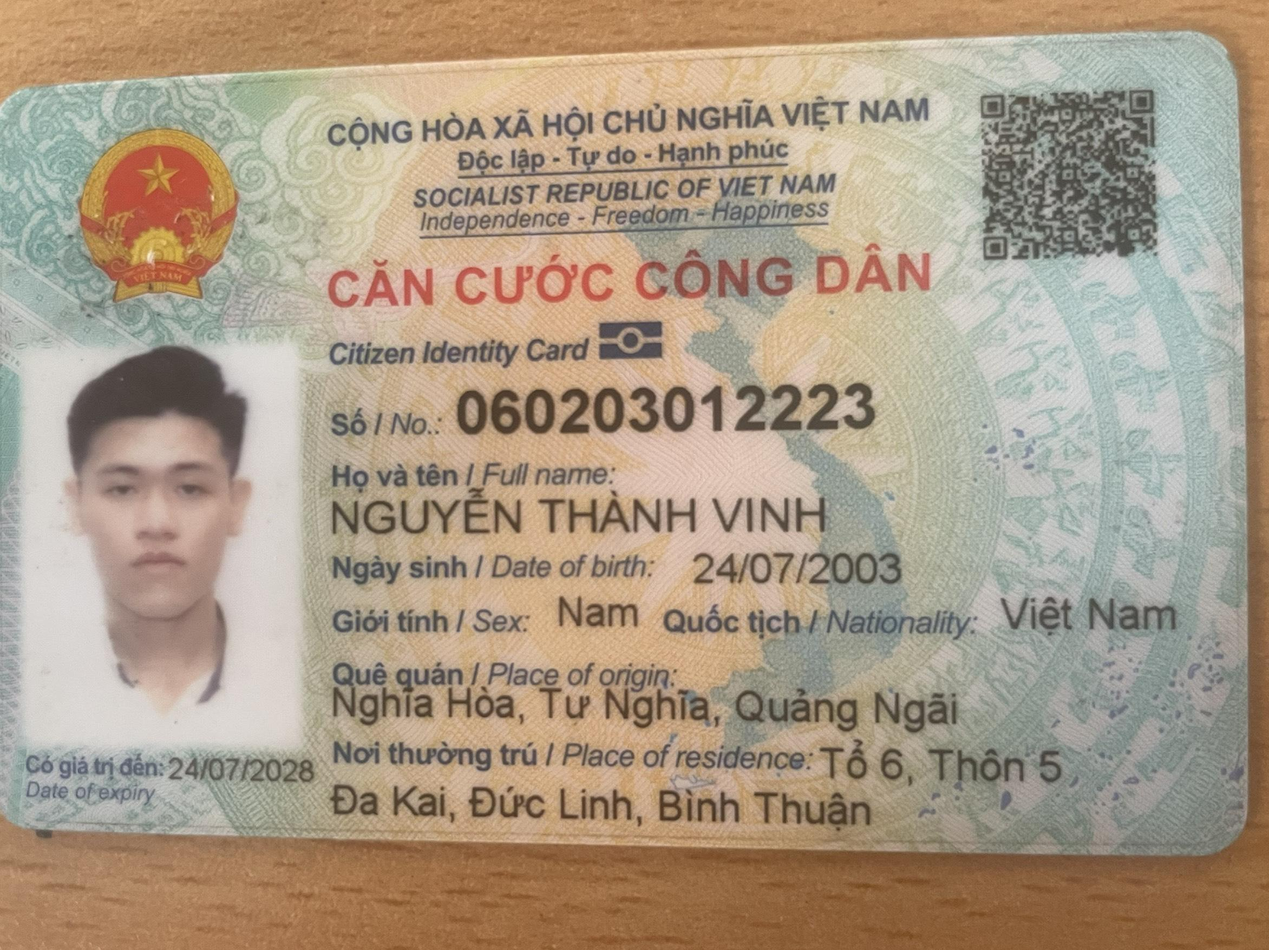ID: (446, 372, 908, 447)
birth: (679, 538, 917, 599)
name: (323, 484, 850, 549)
place: (323, 679, 986, 742)
residence: (318, 773, 888, 838), (816, 730, 1080, 795)
